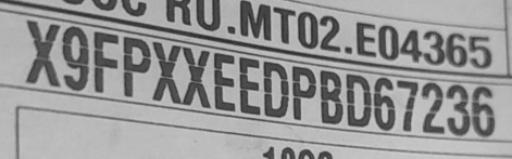letter: (22, 18, 62, 87), (150, 39, 182, 104), (180, 45, 212, 110), (60, 25, 90, 92), (91, 30, 121, 95), (121, 33, 151, 98), (290, 63, 318, 122), (210, 50, 236, 113), (262, 61, 290, 118), (344, 72, 372, 129), (236, 56, 262, 117), (470, 83, 498, 137), (444, 83, 472, 136), (318, 68, 344, 125), (394, 79, 420, 134), (420, 80, 446, 134), (372, 74, 394, 131)
